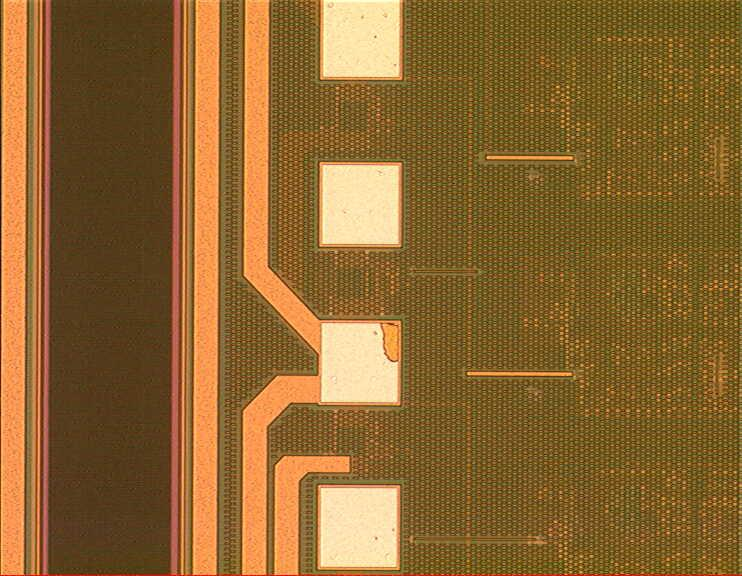BLOCK ETCH: (373, 314, 409, 368)
